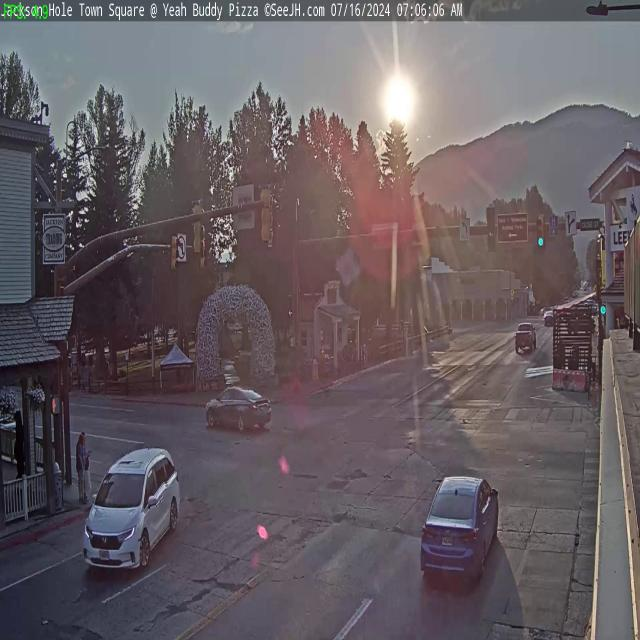minivan: (80, 446, 183, 574)
person: (77, 432, 88, 504)
pickup: (514, 316, 535, 355)
sedan: (419, 471, 504, 589), (205, 382, 272, 434)
traffic light: (260, 184, 274, 244), (191, 199, 203, 257), (487, 206, 496, 251), (536, 214, 546, 248)
